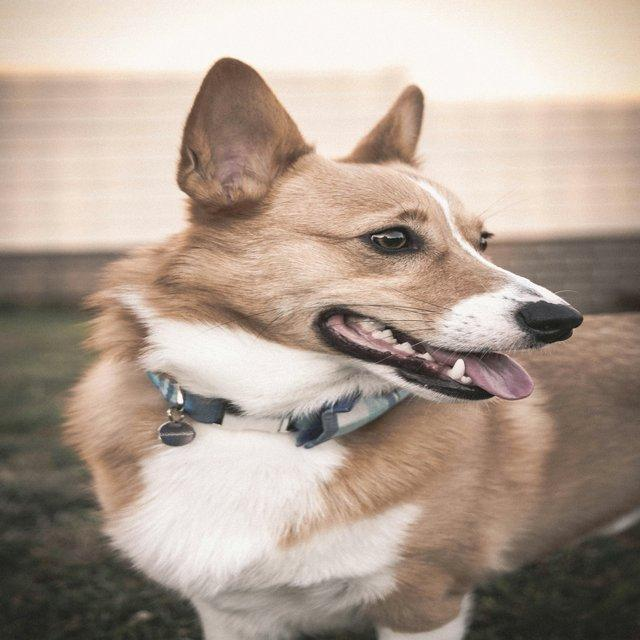corgi: (59, 55, 638, 638)
